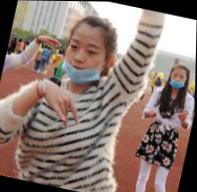WRONG: (56, 33, 109, 86), (169, 70, 188, 92)
